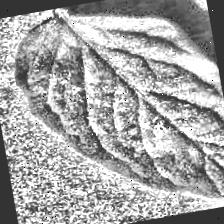leaf mold: (3, 0, 224, 224)
